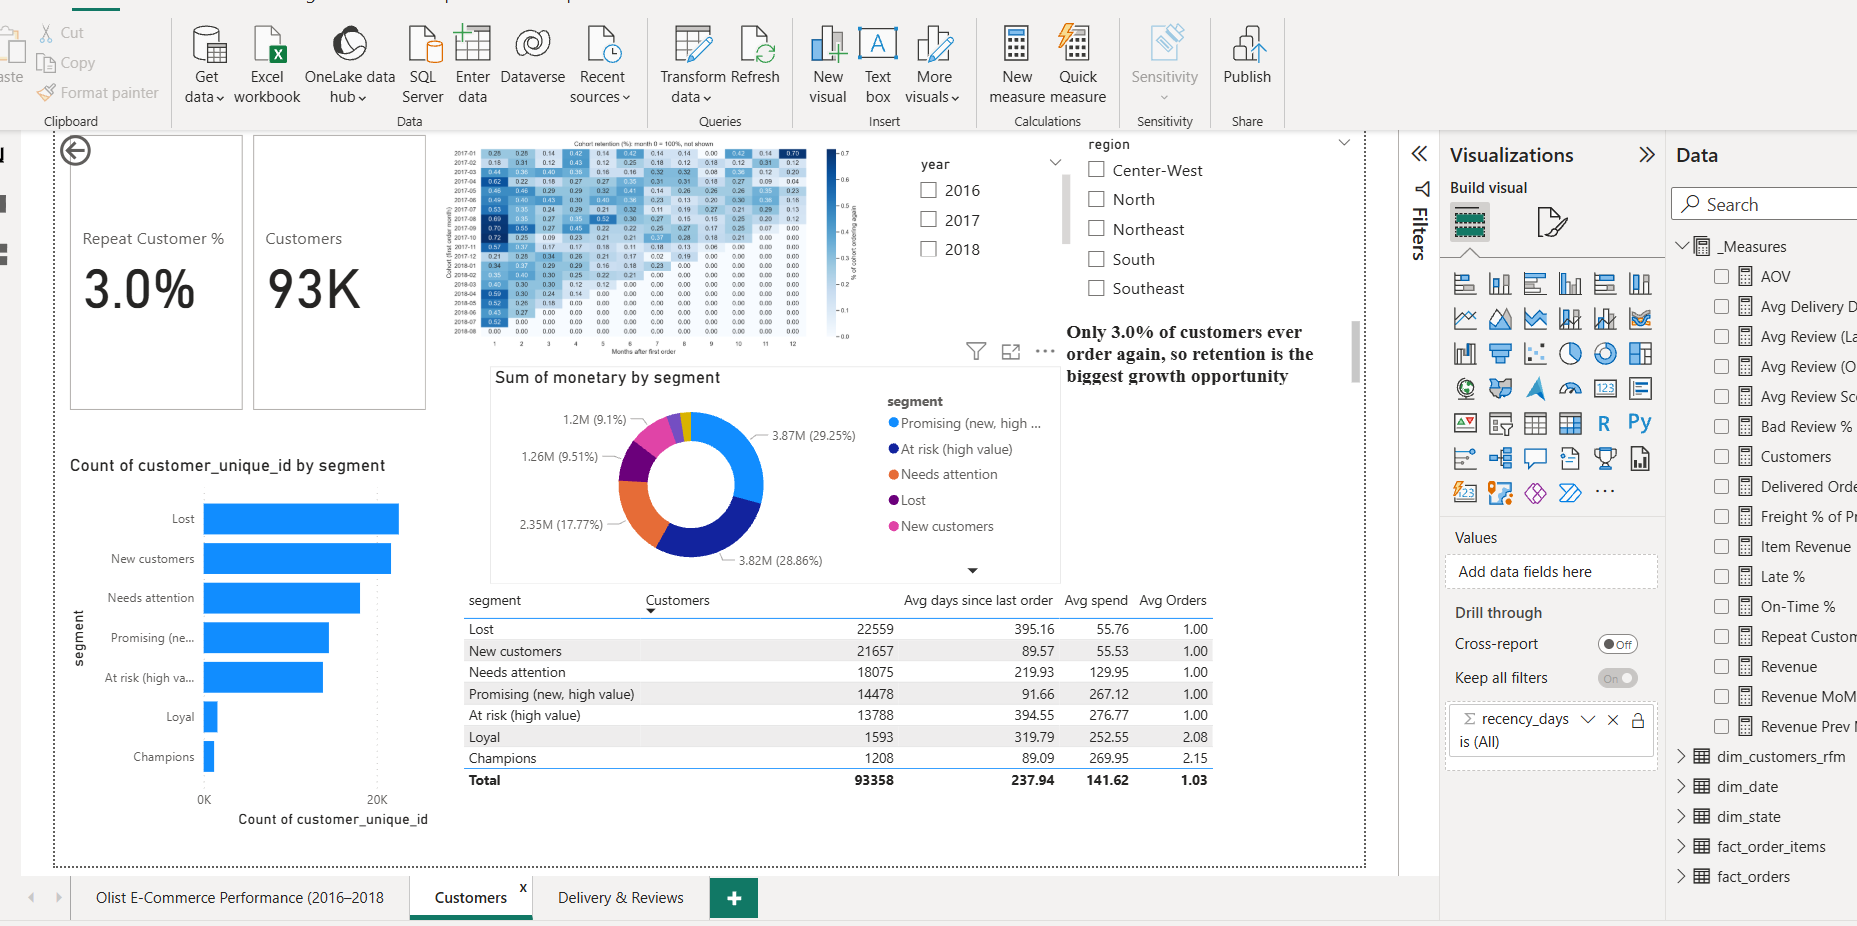

What the dashboard file says about the page in this screenshot:
{"tool":"powerbi","page":{"name":"Customers","canvas":[1280,720],"ordinal":1},"visuals":[{"type":"cardVisual","fields":{"Data":["_Measures.Repeat Customer %","_Measures.Customers"]},"box":[9.8,0,359.4,279.9],"z":0},{"type":"clusteredBarChart","title":"Customers by RFM segment","fields":{"Category":["dim_customers_rfm.segment"],"Y":["CountNonNull(dim_customers_rfm.customer_unique_id)"]},"box":[9.8,317.8,404.6,369.2],"z":1000},{"type":"donutChart","title":"Revenue share by segment","fields":{"Category":["dim_customers_rfm.segment"],"Y":["Sum(dim_customers_rfm.monetary)"]},"box":[425.4,231,558.6,212.7],"z":2000},{"type":"tableEx","fields":{"Values":["dim_customers_rfm.segment","dim_customers_rfm.customer_unique_id","Avg(dim_customers_rfm.recency_days)","Avg(dim_customers_rfm.monetary)","Avg(dim_customers_rfm.frequency)"]},"box":[394.8,447.4,878.9,239.6],"z":3000},{"type":"actionButton","box":[0,0,100,40],"z":4000},{"type":"image","box":[268.9,0,661.3,231],"z":5000},{"type":"textbox","box":[984,182.1,297,72.1],"z":6000},{"type":"slicer","fields":{"Values":["dim_date.year"]},"box":[833.7,19.6,163.8,108.8],"z":7000},{"type":"slicer","fields":{"Values":["dim_state.region"]},"box":[997.5,0,282.4,182.1],"z":8000}]}

Visuals, with their boxes on the page's 1280x720 design canvas (x1, y1, x2, y2). These are canvas units, not pixel positions in the 1857x926 screenshot, which may show the page scaled, cropped or inside an application window:
cardVisual - _Measures.Repeat Customer % x _Measures.Customers: box(10, 0, 369, 280)
"Customers by RFM segment" clusteredBarChart: box(10, 318, 414, 687)
"Revenue share by segment" donutChart: box(425, 231, 984, 444)
tableEx - dim_customers_rfm.segment x dim_customers_rfm.customer_unique_id: box(395, 447, 1274, 687)
actionButton: box(0, 0, 100, 40)
image: box(269, 0, 930, 231)
textbox: box(984, 182, 1281, 254)
slicer - dim_date.year: box(834, 20, 998, 128)
slicer - dim_state.region: box(998, 0, 1280, 182)
